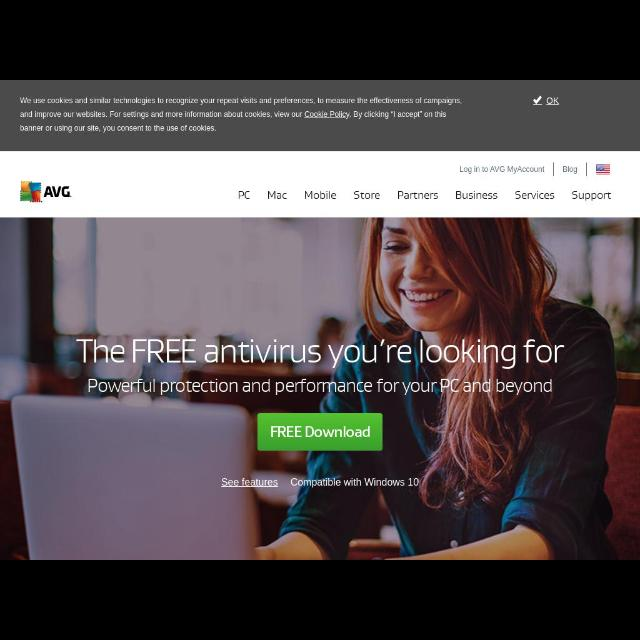backgroundimage: (1, 219, 637, 559)
icon: (534, 96, 542, 104)
image: (20, 180, 72, 203), (596, 165, 610, 175)
panel: (0, 80, 638, 152)
text: (77, 338, 565, 396), (19, 96, 460, 134), (270, 426, 372, 442), (292, 477, 420, 489), (458, 165, 546, 175), (221, 477, 279, 488), (571, 190, 611, 202), (515, 191, 555, 201), (396, 192, 438, 200), (456, 192, 498, 200), (306, 191, 336, 201), (354, 191, 381, 201), (268, 190, 286, 200), (238, 190, 250, 200), (563, 166, 577, 174), (546, 97, 558, 105)
textbutton: (258, 414, 382, 451)
toolbar: (1, 152, 639, 218)
